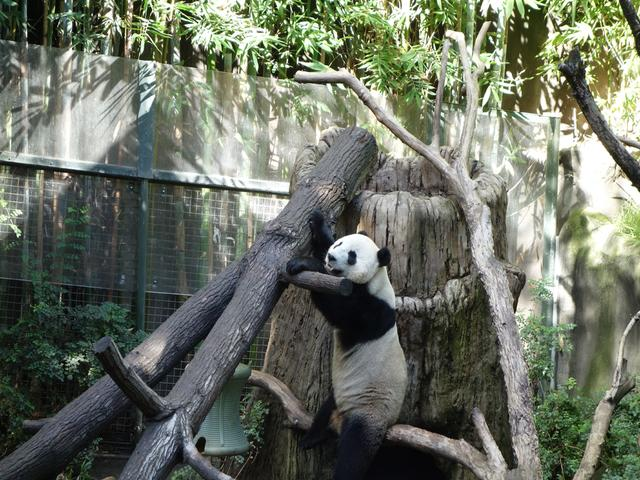panda: (269, 212, 418, 480)
